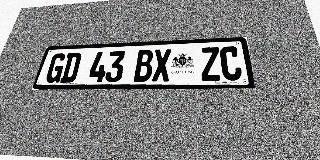3: (104, 51, 126, 82)
4: (87, 51, 109, 82)
B: (134, 50, 154, 82)
C: (219, 46, 243, 81)
D: (59, 52, 82, 83)
G: (44, 53, 67, 83)
X: (152, 49, 171, 82)
Z: (200, 47, 221, 81)
